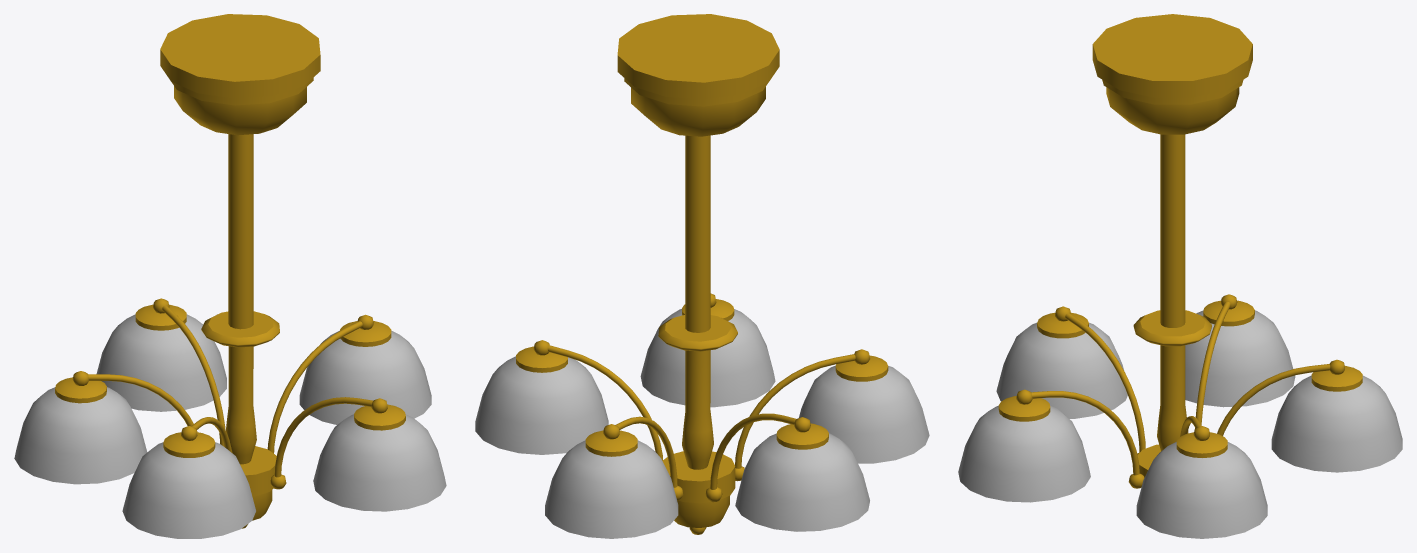
File: lamp.fbx
The picture shows the model from 3 angles, left to right: view 1: azimuth 30°, elevation 25°; view 2: azimuth 150°, elevation 25°; view 3: azimuth 270°, elevation 25°; orthographic projection.
Visible parts, largest first — view 1: Cylinder003, Cylinder005, Cylinder007, Cylinder009, Cylinder010, Cylinder012, Cylinder013, Cylinder004, Cylinder011, Cylinder008; view 2: Cylinder003, Cylinder010, Cylinder009, Cylinder012, Cylinder007, Cylinder005, Cylinder006, Cylinder013, Cylinder008, Cylinder011; view 3: Cylinder003, Cylinder012, Cylinder005, Cylinder010, Cylinder007, Cylinder009, Cylinder006, Cylinder004, Cylinder011, Cylinder008.
Boxes of the visible parts, <box> form: Cylinder003: <box>160,14,320,520</box>; Cylinder005: <box>313,404,446,511</box>; Cylinder007: <box>122,432,255,538</box>; Cylinder009: <box>14,377,147,484</box>; Cylinder010: <box>96,304,226,411</box>; Cylinder012: <box>299,321,431,424</box>; Cylinder013: <box>267,321,362,453</box>; Cylinder004: <box>274,397,372,477</box>; Cylinder011: <box>162,305,225,446</box>; Cylinder008: <box>88,374,197,432</box>; Cylinder003: <box>617,14,779,527</box>; Cylinder010: <box>545,430,678,538</box>; Cylinder009: <box>735,423,869,531</box>; Cylinder012: <box>475,346,608,454</box>; Cylinder007: <box>799,355,929,463</box>; Cylinder005: <box>640,299,775,407</box>; Cylinder006: <box>735,354,855,468</box>; Cylinder013: <box>547,345,662,460</box>; Cylinder008: <box>710,413,796,489</box>; Cylinder011: <box>615,416,677,487</box>; Cylinder003: <box>1092,14,1252,477</box>; Cylinder012: <box>1136,432,1267,538</box>; Cylinder005: <box>958,396,1090,502</box>; Cylinder010: <box>1271,366,1402,472</box>; Cylinder007: <box>996,312,1127,418</box>; Cylinder009: <box>1185,300,1295,407</box>; Cylinder006: <box>1065,313,1145,452</box>; Cylinder004: <box>1031,391,1139,475</box>; Cylinder011: <box>1217,364,1330,435</box>; Cylinder008: <box>1194,302,1230,429</box>.
Size of the model in its own units: 32.59 by 32.59 by 38.69.
